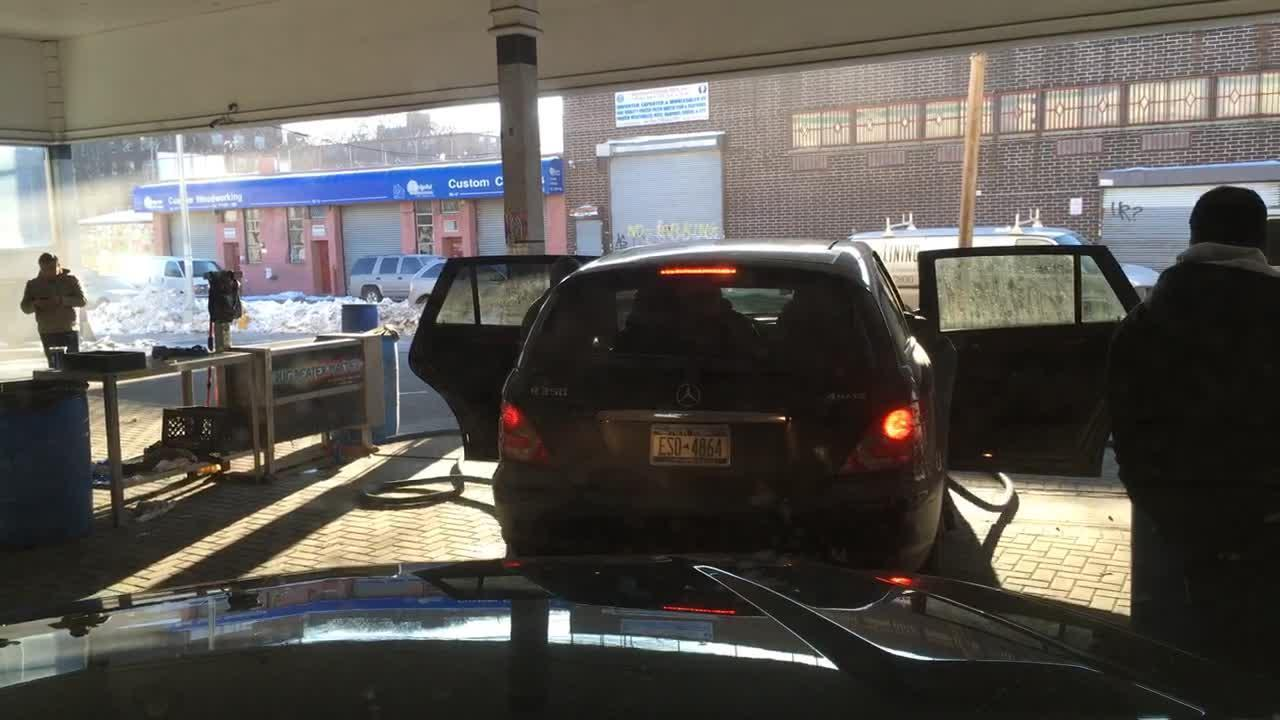Mercedes: (663, 371, 711, 417)
